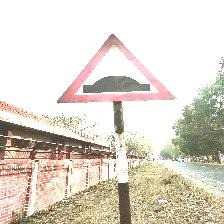Speed-breaker: (57, 35, 175, 102)
